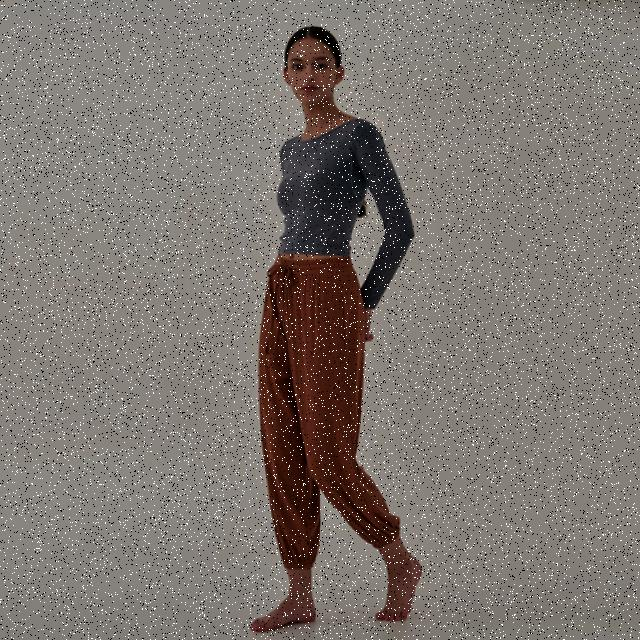dress: (262, 255, 398, 559)
